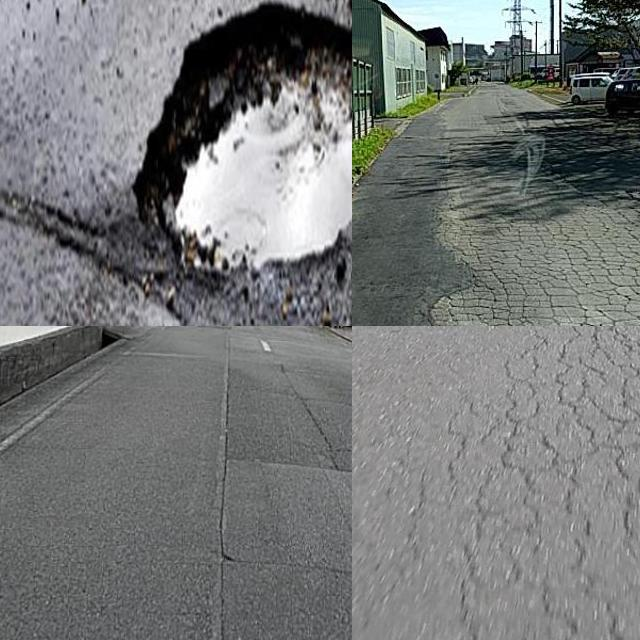Lubang: (135, 0, 352, 283)
Melintang: (206, 542, 352, 588), (223, 444, 352, 486)
Memanjang: (203, 326, 243, 640)
Retak Buaya: (452, 326, 640, 640), (425, 184, 640, 326)
